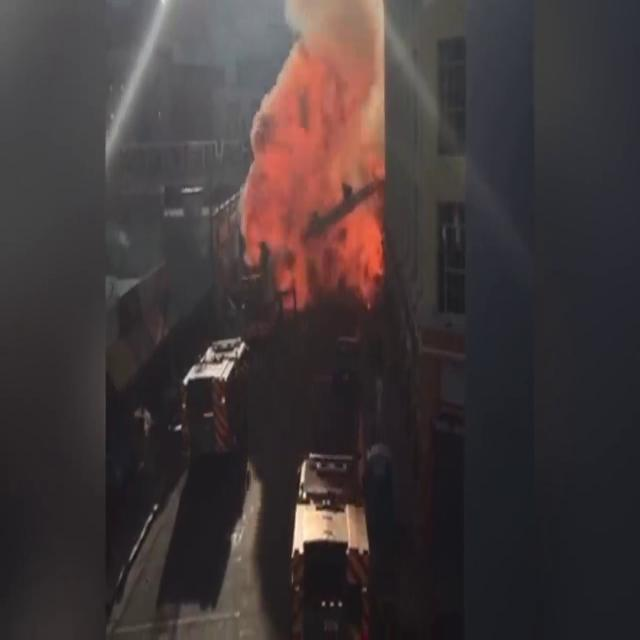Fire: (232, 1, 396, 308)
